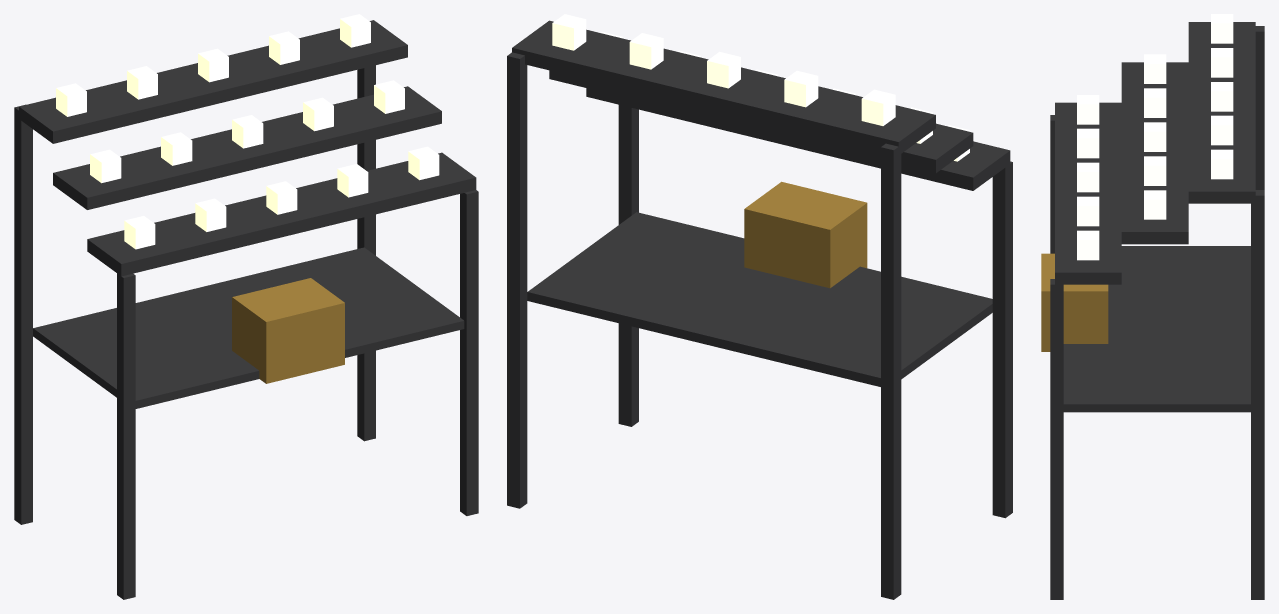
Rendered from candle_stand.glb.
3 views of the same model, side by side, from view 1: azimuth 30°, elevation 25°; view 2: azimuth 150°, elevation 25°; view 3: azimuth 270°, elevation 25° (orthographic). The views are drawn at different scales.
Parts seen in each view (by area): view 1: candle_stand; view 2: candle_stand; view 3: candle_stand.
Boxes of the visible parts, x1,y1,x2,y2 form: candle_stand: [14, 14, 478, 599]; candle_stand: [507, 14, 1012, 599]; candle_stand: [1041, 14, 1264, 599].
Size of the model in its own units: 0.9 by 1.06 by 0.5.
Materials: 1 (1 with a texture image).
